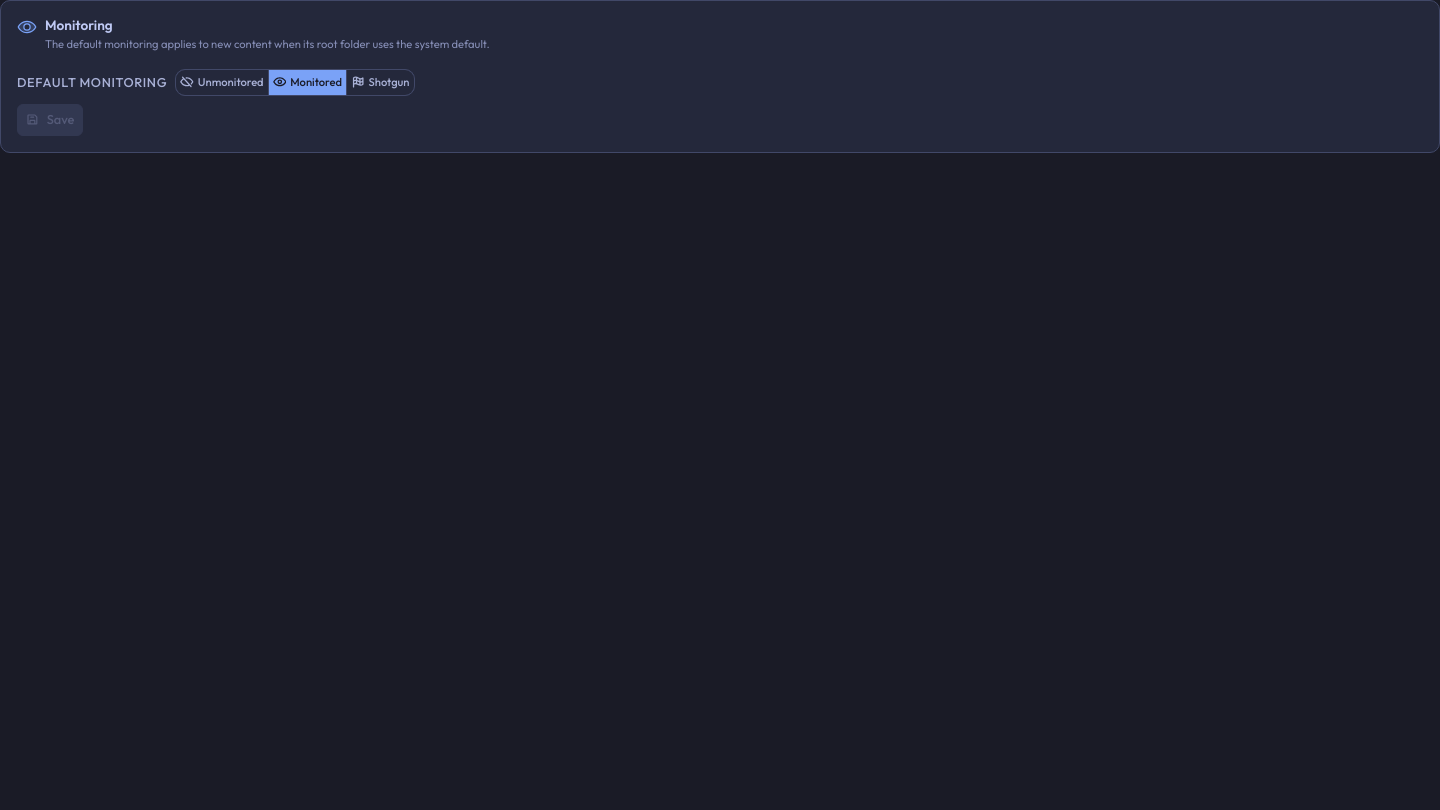
Scenario: MonitoringDefaultPanel › MaxSpread_ShowsTheSavedValue_WhenShotgunIsChosenAgainAfterAPendingSave
Click the radio button with aria-label "Shotgun:": (380, 82) [347, 70, 414, 95]
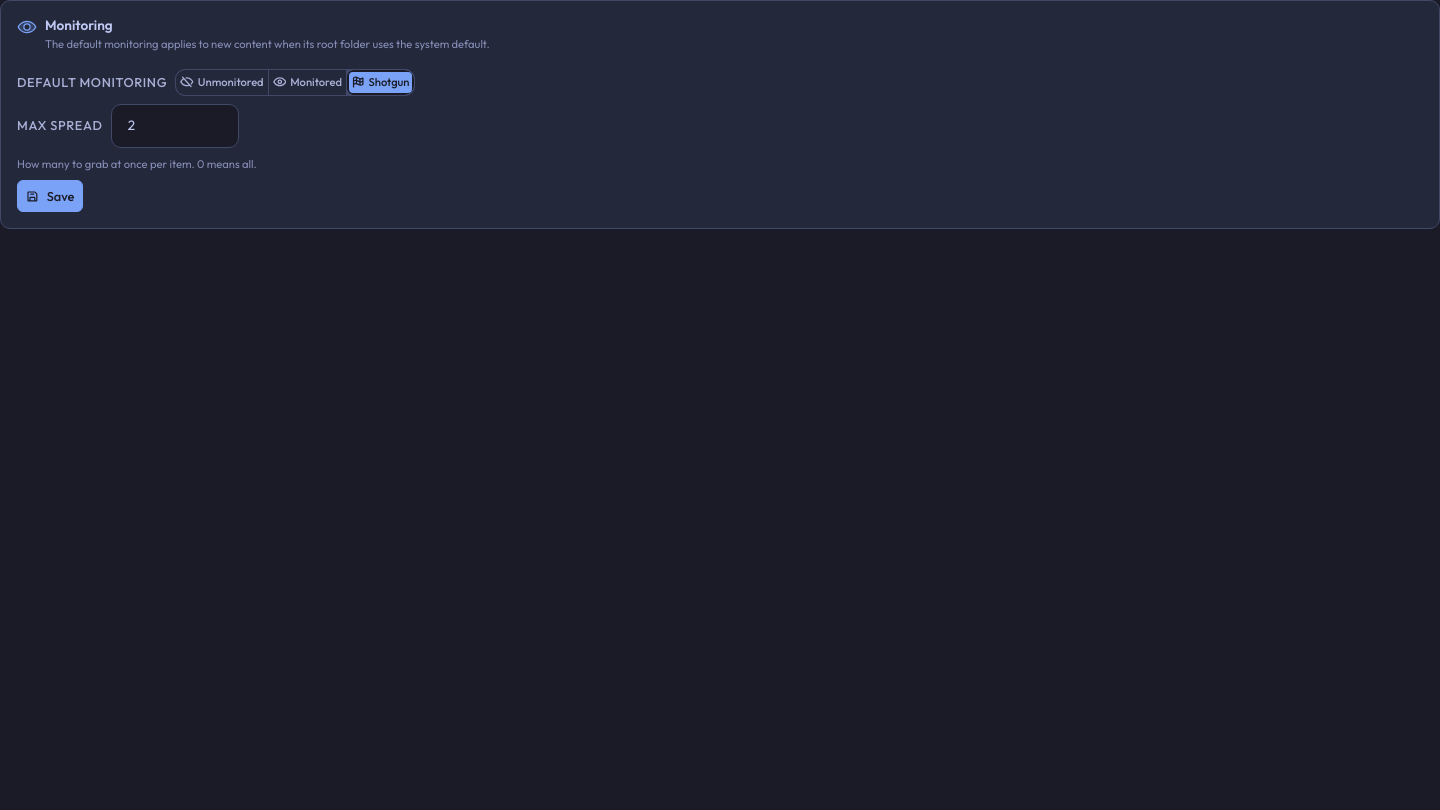
Replace the text in the number field labelled "Max spread" with "5": (175, 126) [112, 107, 238, 144]
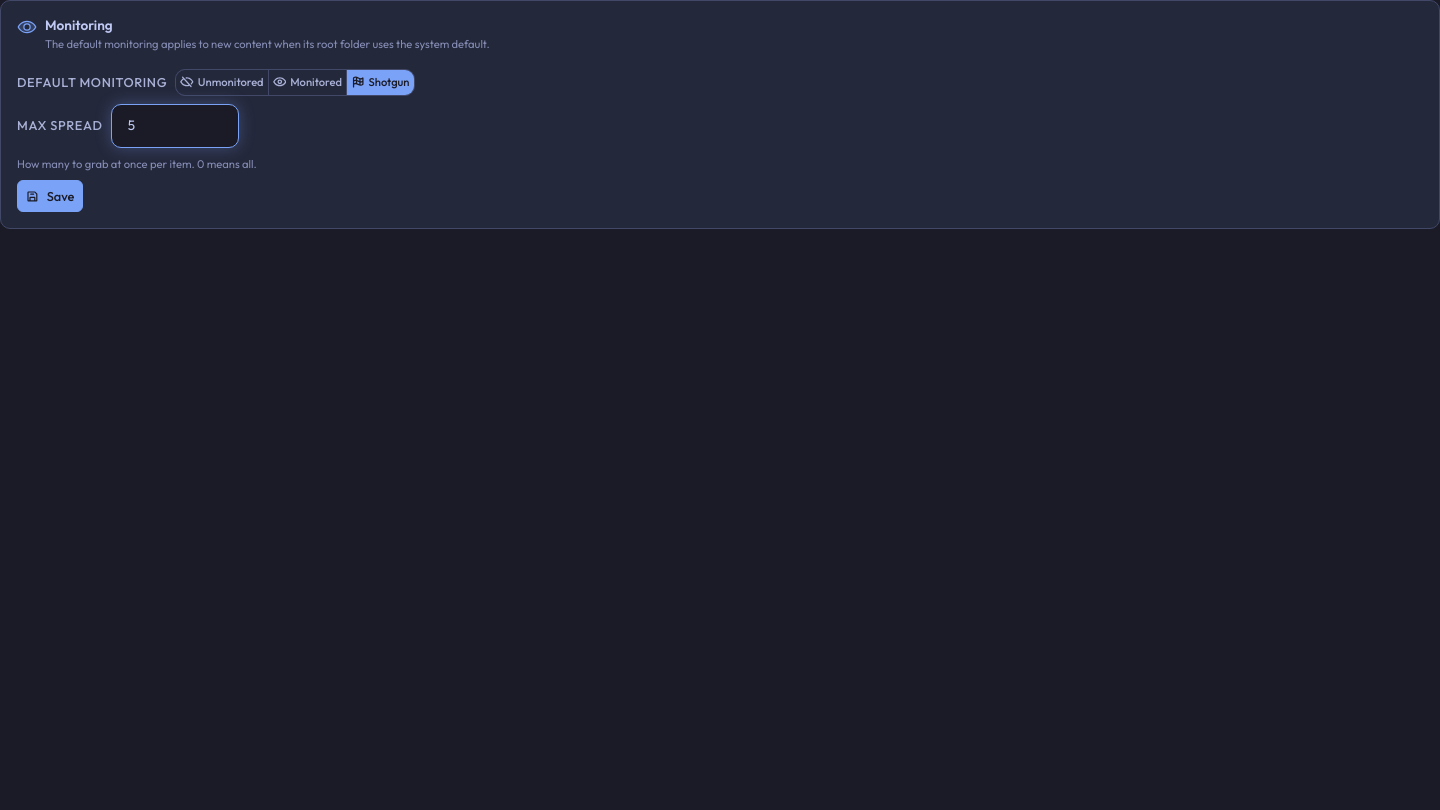
Click the button "Save": (50, 196) [17, 180, 83, 212]
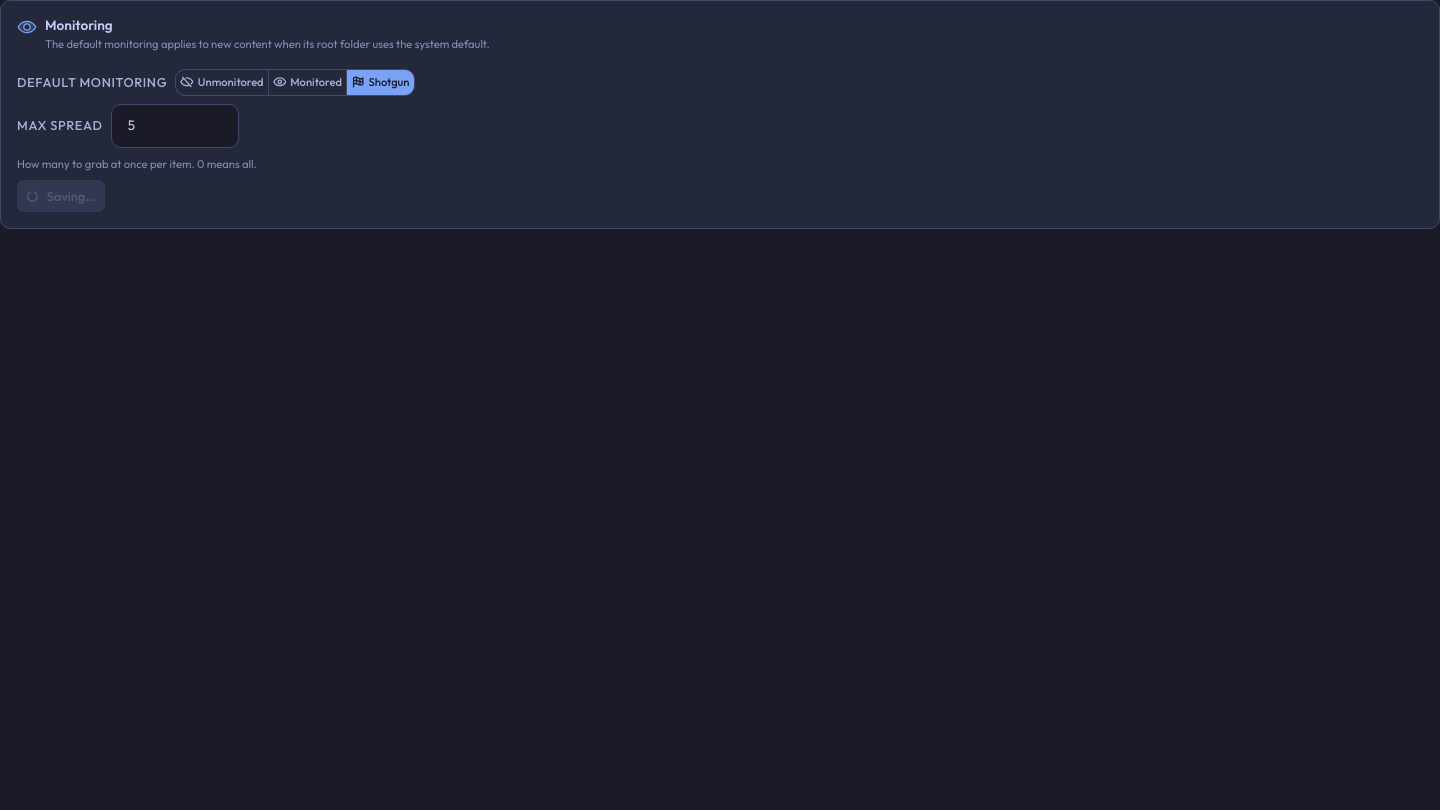
Click the radio button with aria-label "Monitored:": (307, 82) [269, 70, 346, 95]
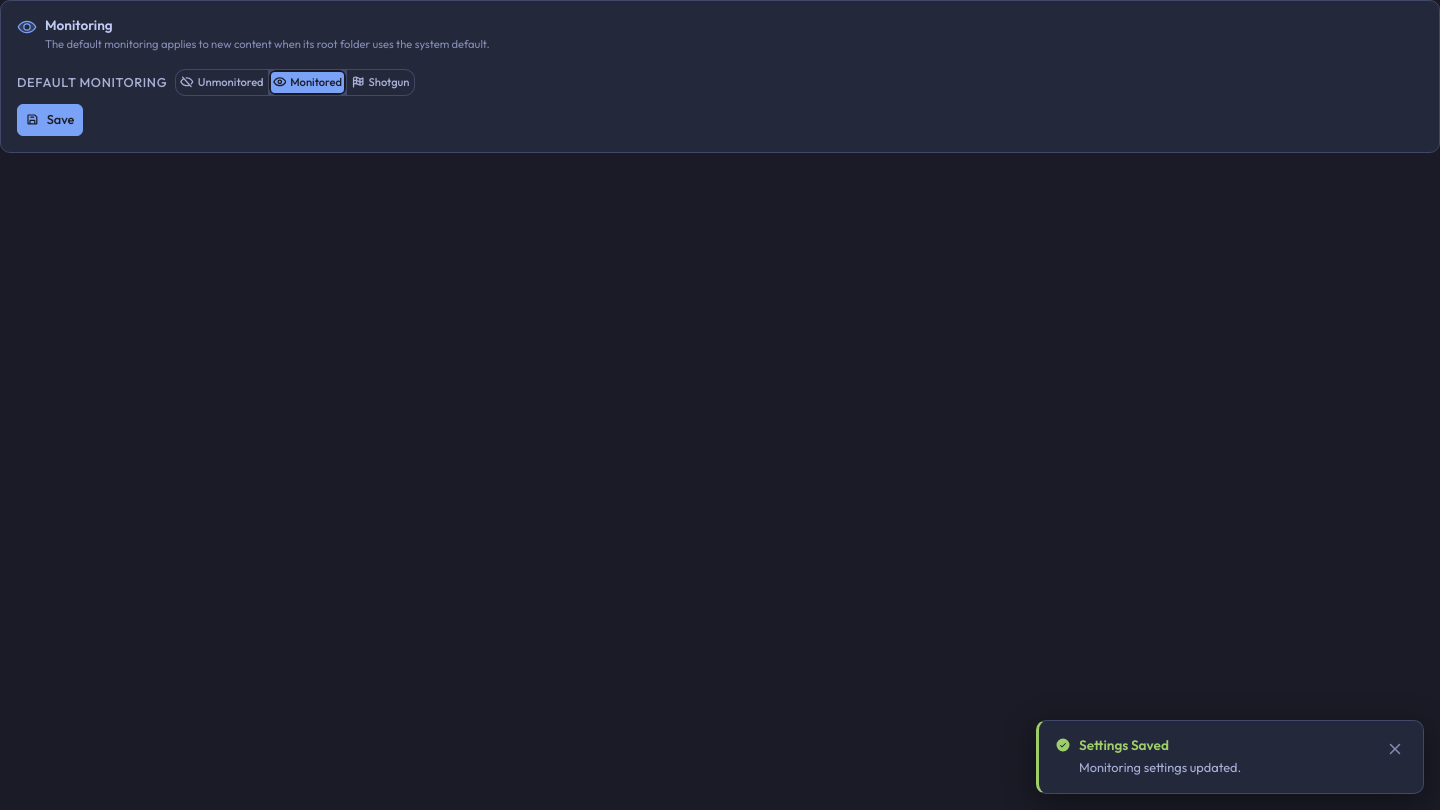
Click the radio button with aria-label "Shotgun:": (380, 82) [347, 70, 414, 95]
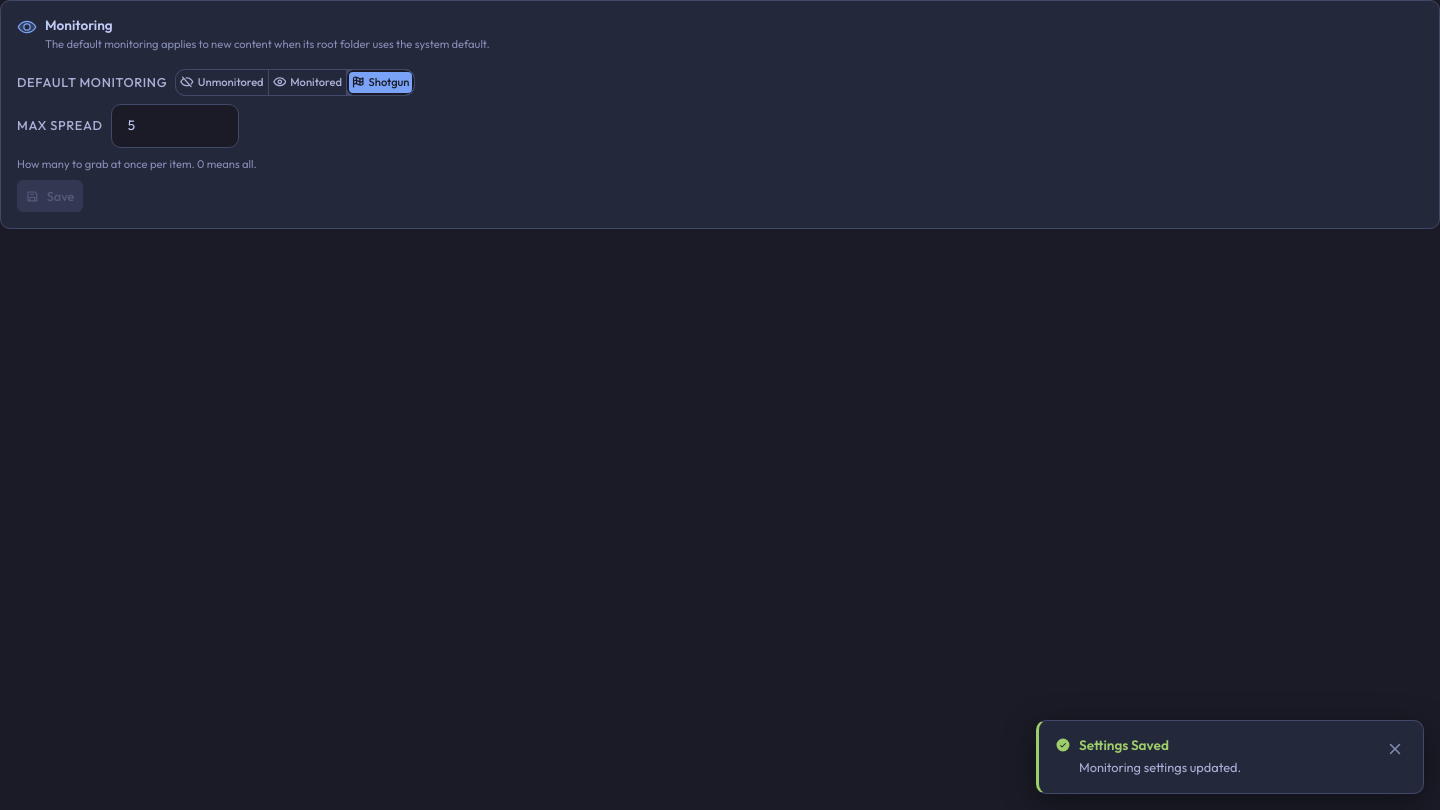
Expected: the number field labelled "Max spread" holds "5", [112, 107, 238, 144]
Expected: the button "Save" is disabled, [17, 180, 83, 212]
